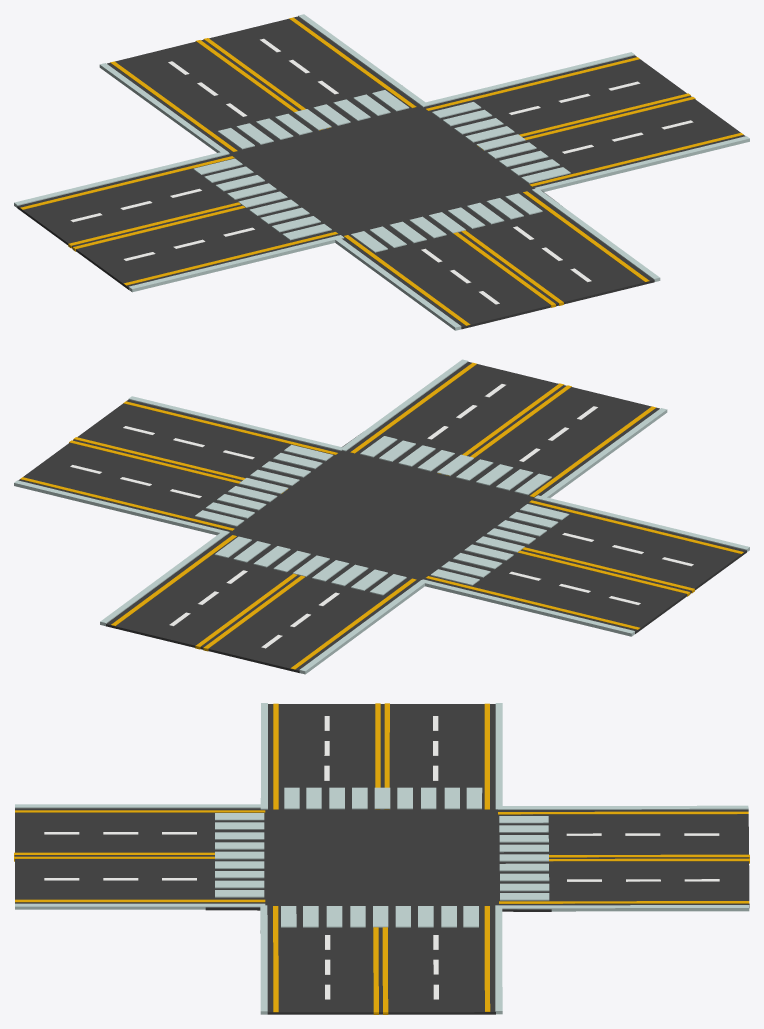
Rendered from intersection2.glb.
The picture shows the model from 3 angles, top to bottom: view 1: azimuth 30°, elevation 25°; view 2: azimuth 150°, elevation 25°; view 3: azimuth 270°, elevation 25°; orthographic projection. The views are drawn at different scales.
Visible parts, largest first — view 1: Cube.135, Cube.011, Cube.005, Cube, Cube.054, Cube.082, Cube.013, Cube.003, Cube.056, Cube.081, Cube.017, Cube.002 (+17 smaller); view 2: Cube.135, Cube.054, Cube.011, Cube, Cube.005, Cube.017, Cube.081, Cube.056, Cube.003, Cube.013, Cube.082, Cube.057 (+17 smaller); view 3: Cube.135, Cube.005, Cube.011, Cube.054, Cube, Cube.057, Cube.002, Cube.003, Cube.056, Cube.019, Cube.067, Cube.082 (+14 smaller).
Part boxes in pixels (x1,y1,x2,y2): Cube.135: (202, 87, 560, 257); Cube.011: (17, 154, 335, 289); Cube.005: (424, 55, 745, 186); Cube: (343, 212, 654, 329); Cube.054: (107, 16, 418, 132); Cube.082: (534, 136, 749, 191); Cube.013: (128, 235, 344, 292); Cube.003: (333, 237, 461, 330); Cube.056: (99, 63, 228, 153); Cube.081: (419, 52, 634, 107); Cube.017: (14, 152, 229, 207); Cube.002: (532, 188, 660, 281); Cube.135: (203, 430, 534, 600); Cube.054: (106, 534, 419, 672); Cube.011: (425, 499, 746, 633); Cube: (347, 362, 659, 497); Cube.005: (18, 399, 337, 531); Cube.017: (420, 579, 634, 636); Cube.081: (14, 480, 229, 535); Cube.056: (299, 580, 424, 674); Cube.003: (539, 408, 667, 498); Cube.013: (534, 495, 749, 551); Cube.082: (128, 396, 342, 450); Cube.057: (100, 532, 226, 626); Cube.135: (205, 808, 554, 911); Cube.005: (267, 906, 495, 1014); Cube.011: (268, 704, 495, 808); Cube.054: (499, 809, 749, 907); Cube: (15, 808, 264, 903); Cube.057: (499, 905, 749, 911); Cube.002: (15, 903, 265, 909); Cube.003: (15, 804, 265, 808); Cube.056: (498, 805, 748, 809); Cube.019: (15, 899, 265, 902); Cube.067: (498, 811, 748, 814); Cube.082: (260, 905, 267, 1014).
Bounding box in the file's own units: 56.32 × 0.2836 × 56.68.
